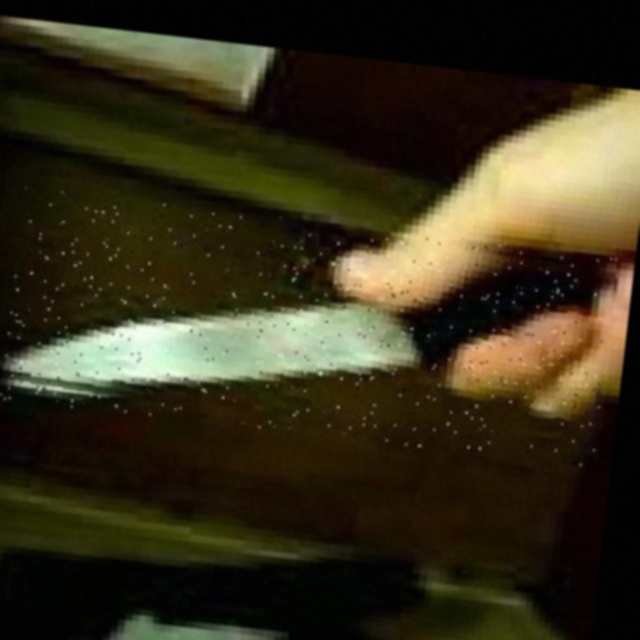Sharp-Object: (0, 186, 617, 468)
